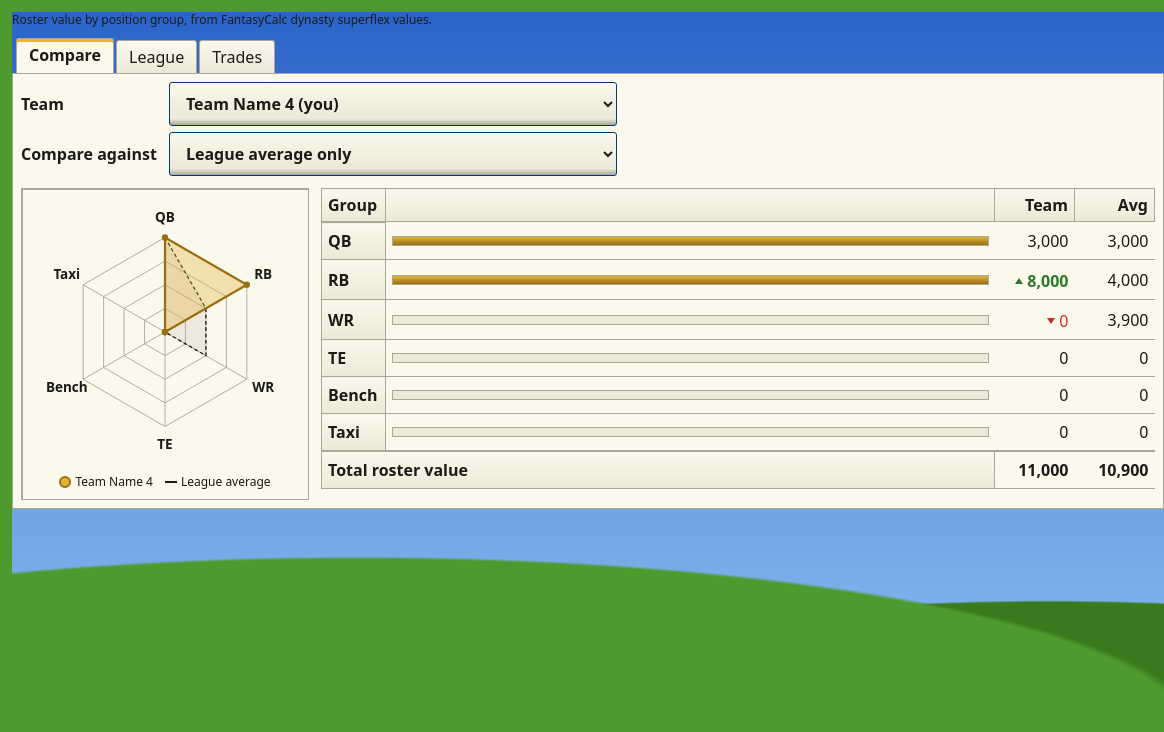
Team Analyzer › lists a fair one-for-one with the partner, both players and the lift
The image size is (1164, 732).
Step 1. Click the tab "Trades" → [237, 56], box [199, 40, 275, 73]
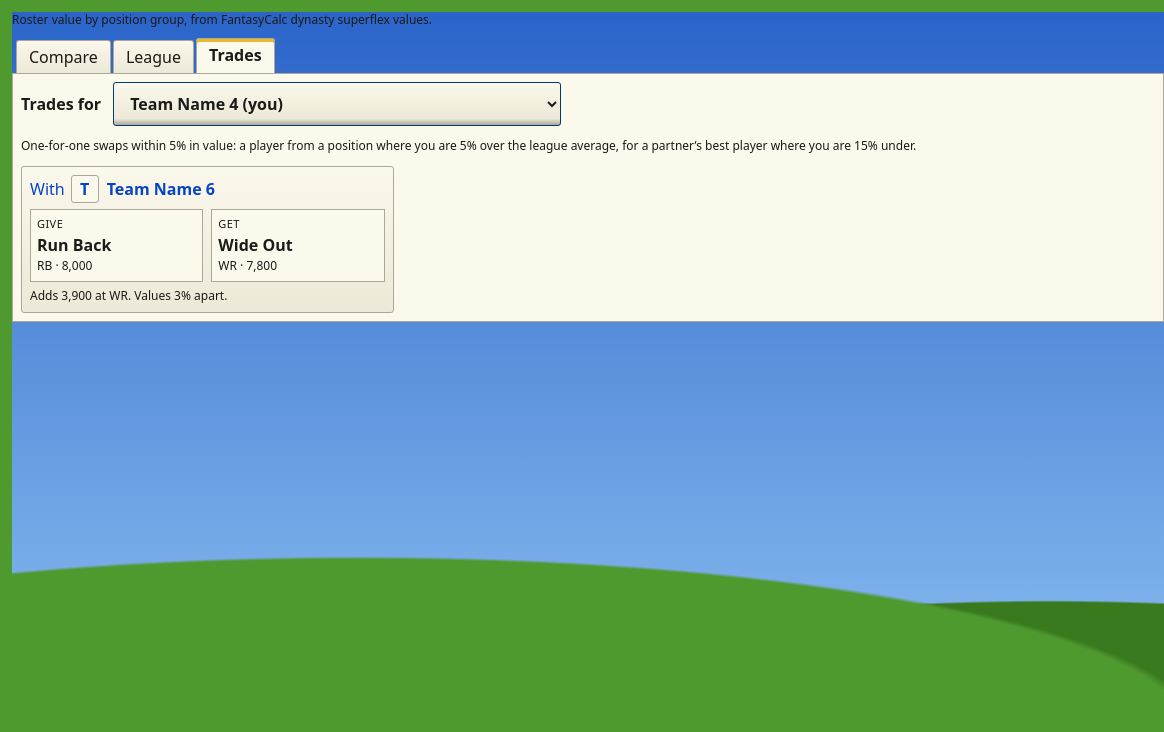
Expected: the button "T Team Name 6" is shown, [71, 175, 215, 203]
Expected: the text "Adds 3,900 at WR. Values 3% apart." is shown, [30, 286, 227, 304]
